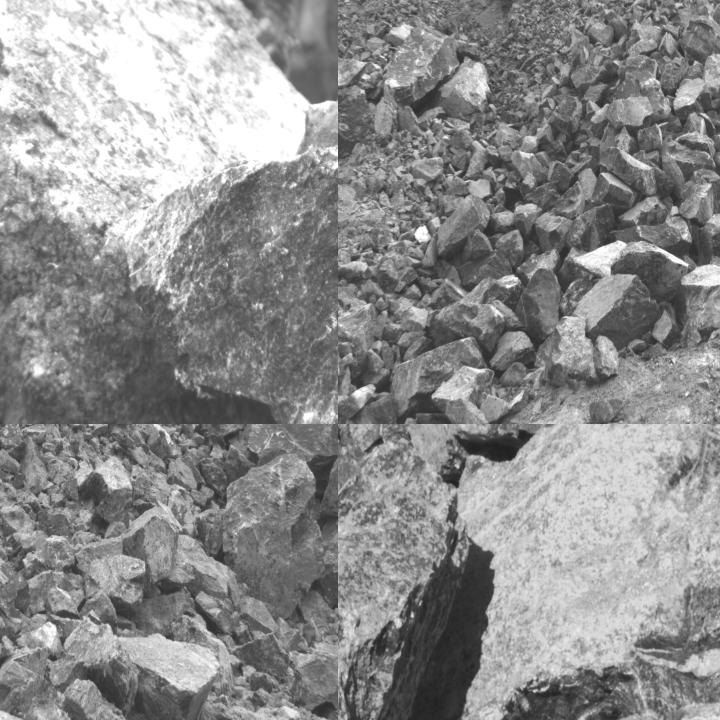stone: (0, 0, 308, 423), (447, 424, 719, 719), (126, 88, 337, 423), (338, 457, 474, 719), (222, 456, 322, 616), (393, 424, 611, 472), (114, 633, 215, 719), (48, 617, 139, 708), (393, 336, 489, 419), (244, 424, 337, 494), (575, 274, 660, 347), (384, 23, 457, 107), (121, 503, 180, 590), (130, 466, 200, 536), (614, 240, 689, 301), (166, 534, 233, 602), (536, 314, 598, 386), (0, 650, 64, 718), (430, 301, 506, 353), (84, 555, 145, 615), (338, 87, 375, 185), (438, 195, 491, 261), (84, 457, 132, 528), (612, 216, 692, 256), (674, 261, 719, 332), (433, 365, 496, 414), (438, 60, 490, 119), (515, 270, 559, 338), (135, 590, 196, 636), (233, 634, 290, 682), (564, 203, 616, 254), (601, 149, 658, 195), (662, 138, 712, 190), (294, 656, 337, 715), (193, 588, 237, 641), (457, 250, 512, 291), (21, 536, 76, 577), (590, 170, 640, 213), (488, 331, 536, 371), (679, 17, 719, 64), (319, 433, 337, 534), (679, 174, 714, 225), (605, 96, 654, 129), (320, 517, 337, 610), (618, 196, 668, 227), (197, 503, 225, 558), (144, 424, 183, 463), (674, 77, 710, 119), (547, 96, 583, 138), (535, 212, 571, 253), (198, 455, 228, 500), (651, 309, 683, 348), (444, 400, 498, 423), (495, 227, 524, 269), (226, 444, 257, 483), (570, 63, 610, 93), (44, 588, 84, 618), (593, 335, 619, 380), (511, 149, 548, 180), (512, 203, 543, 240), (553, 182, 584, 218), (659, 57, 689, 94), (698, 212, 719, 264), (589, 396, 626, 424), (166, 458, 197, 490), (625, 54, 658, 84), (338, 57, 365, 93), (0, 424, 27, 459), (546, 161, 572, 191), (204, 424, 248, 441), (412, 158, 444, 181), (704, 52, 719, 100), (588, 22, 614, 49), (189, 483, 215, 510), (637, 124, 663, 150), (399, 308, 428, 330), (540, 190, 561, 212), (519, 174, 537, 196), (712, 132, 719, 155)
